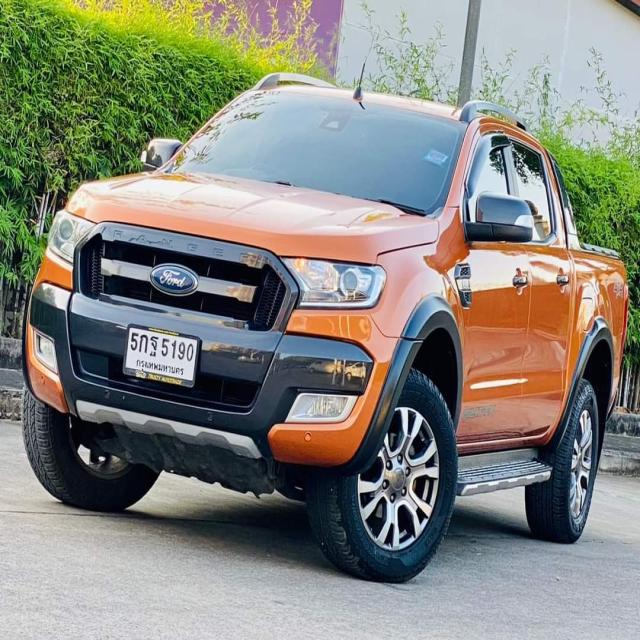license_plate: (122, 320, 201, 389)
